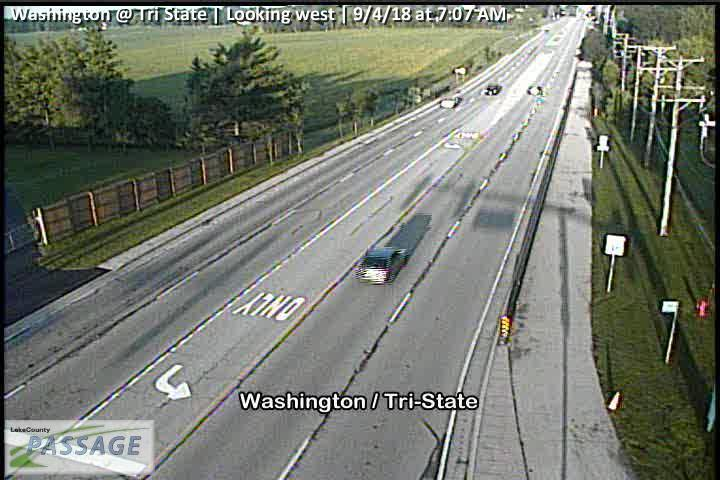Sedan: (355, 246, 407, 284)
